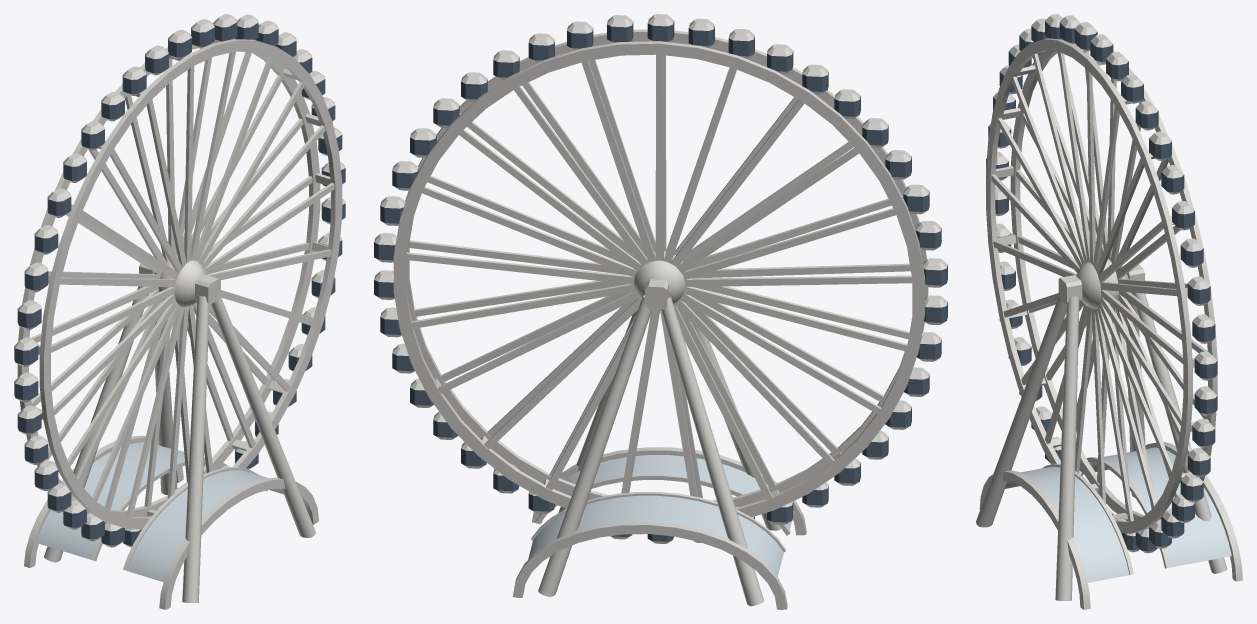
File: detail.glb
3 views of the same model, side by side, from view 1: azimuth 30°, elevation 25°; view 2: azimuth 150°, elevation 25°; view 3: azimuth 270°, elevation 25° (orthographic). The views are drawn at different scales.
Parts seen in each view (by area): view 1: seattle-great-wheel; view 2: seattle-great-wheel; view 3: seattle-great-wheel.
Boxes of the visible parts, x1,y1,x2,y2 form: seattle-great-wheel: (14,14,345,609); seattle-great-wheel: (374,14,947,609); seattle-great-wheel: (976,14,1242,609).
Size of the model in its own units: 47.91 by 54.15 by 25.67.
